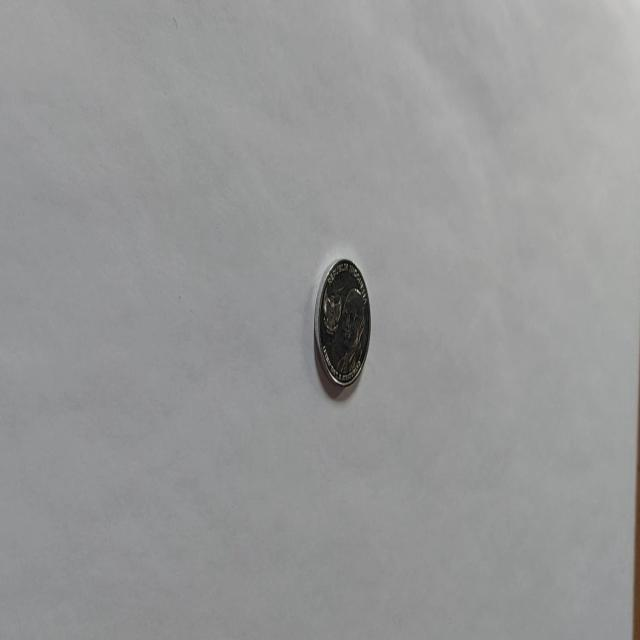lima ratus rupiah: (313, 256, 372, 390)
